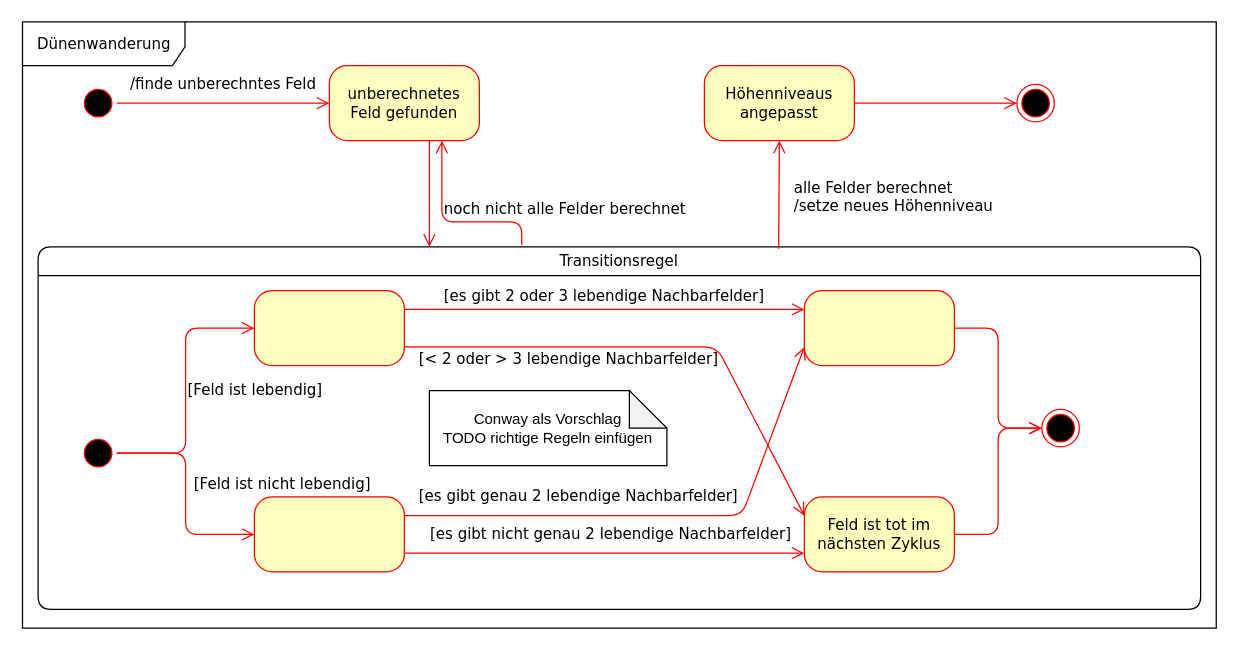
Some shapes in this 1238 by 650 pixel diagram are drawn without their labels. Each missing label, with the centre of its shape:
"Feld lebt im nächsten Zyklus" belongs at point 878,327.
"lebendiges Feld" belongs at point 328,327.
"totes Feld" belongs at point 328,534.
